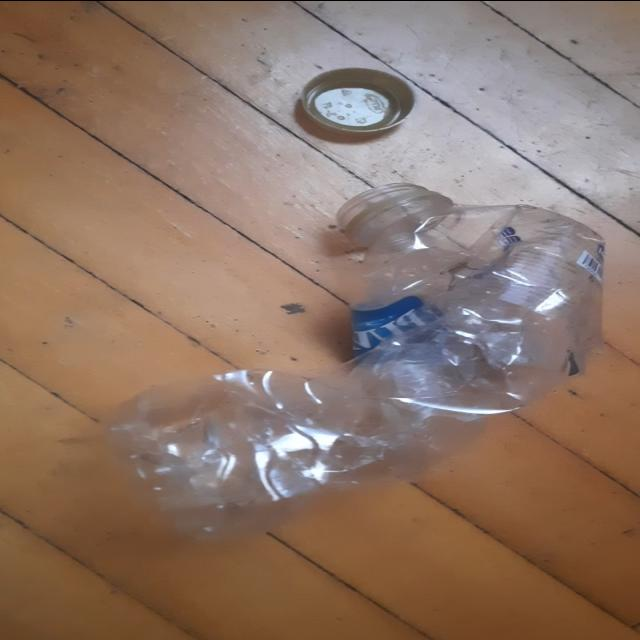Plastic: (103, 182, 605, 538)
